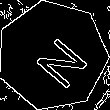N_NW: (20, 24, 86, 87)
